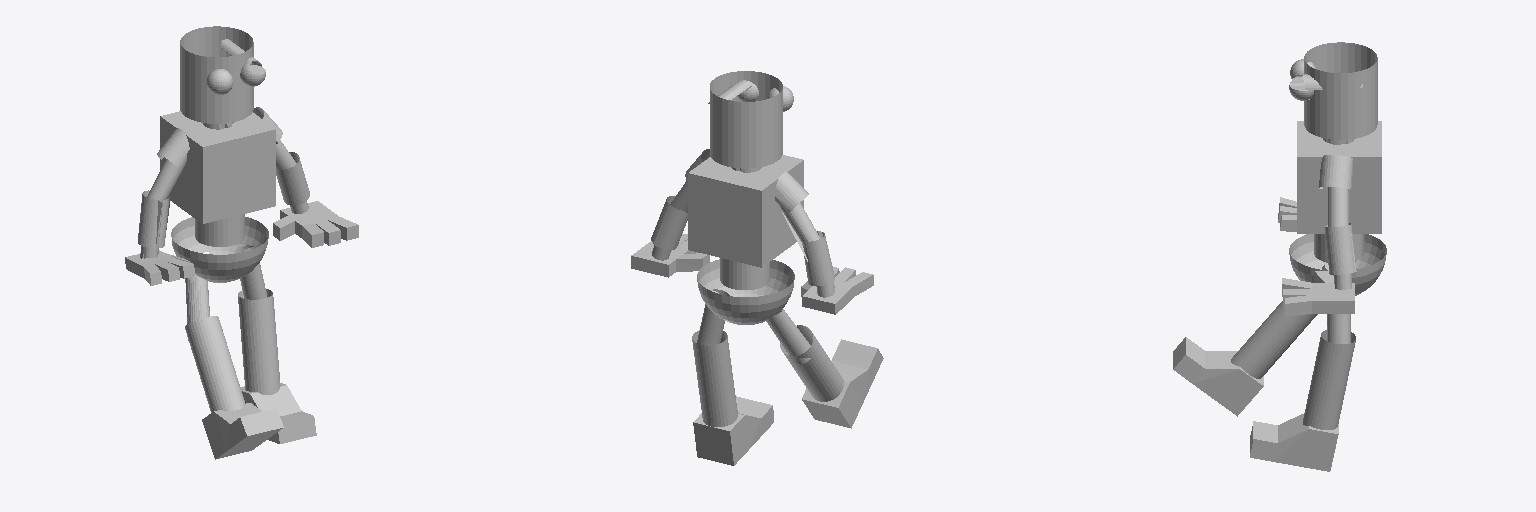
Rendered from mydumbo3.obj.
3 renders of one model, left to right at view 1: azimuth 30°, elevation 25°; view 2: azimuth 150°, elevation 25°; view 3: azimuth 270°, elevation 25°, orthographic.
Visible parts, largest first — view 1: Circle; view 2: Circle; view 3: Circle.
Boxes of the visible parts, box(x1,y1,x2,y2) form: Circle: box(125, 26, 358, 459); Circle: box(631, 71, 883, 465); Circle: box(1173, 42, 1386, 471).
Size of the model in its own units: 12.87 by 22.59 by 11.29.